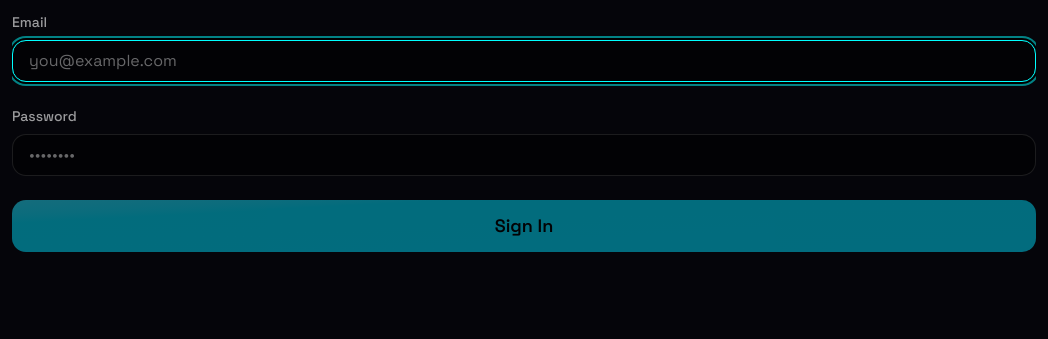
Test: LoginForm › should show error message on 403 (email not verified)
Type "test@example.com" into the field with placeholder "you@example.com".
click(524, 61); type("test@example.com")  # box [12,40,1036,82]
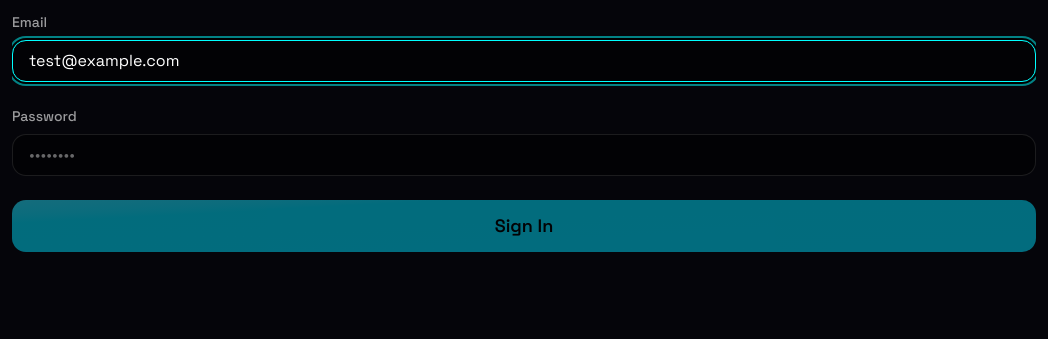
Type "password123" into the password field with placeholder "••••••••".
click(524, 155); type("password123")  # box [12,134,1036,176]
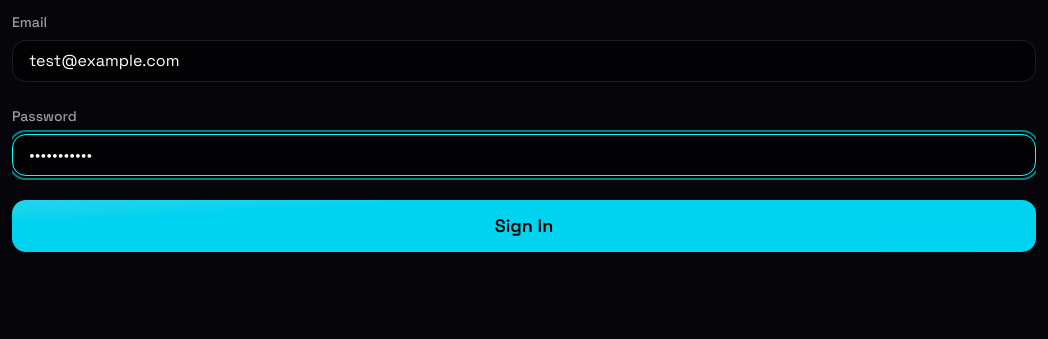
Click the button "Sign In".
click(524, 226)  # box [12,200,1036,252]
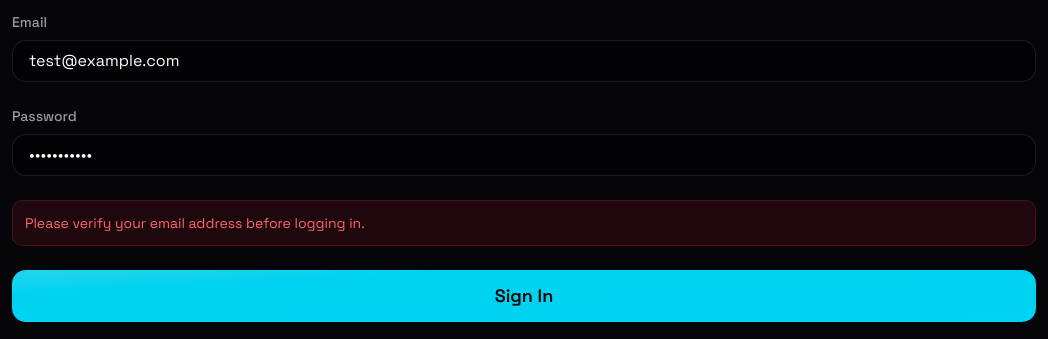
Now the text "Please verify your email address before logging in." is shown, box [12,200,1036,246]
